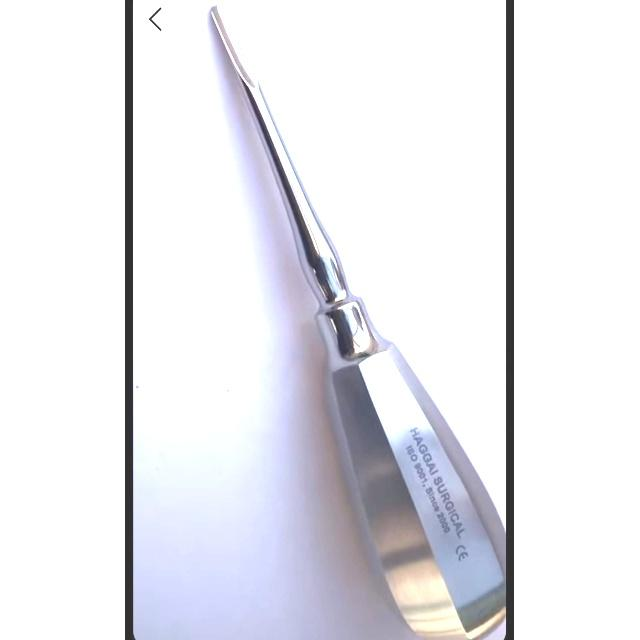botador: (206, 1, 507, 639)
